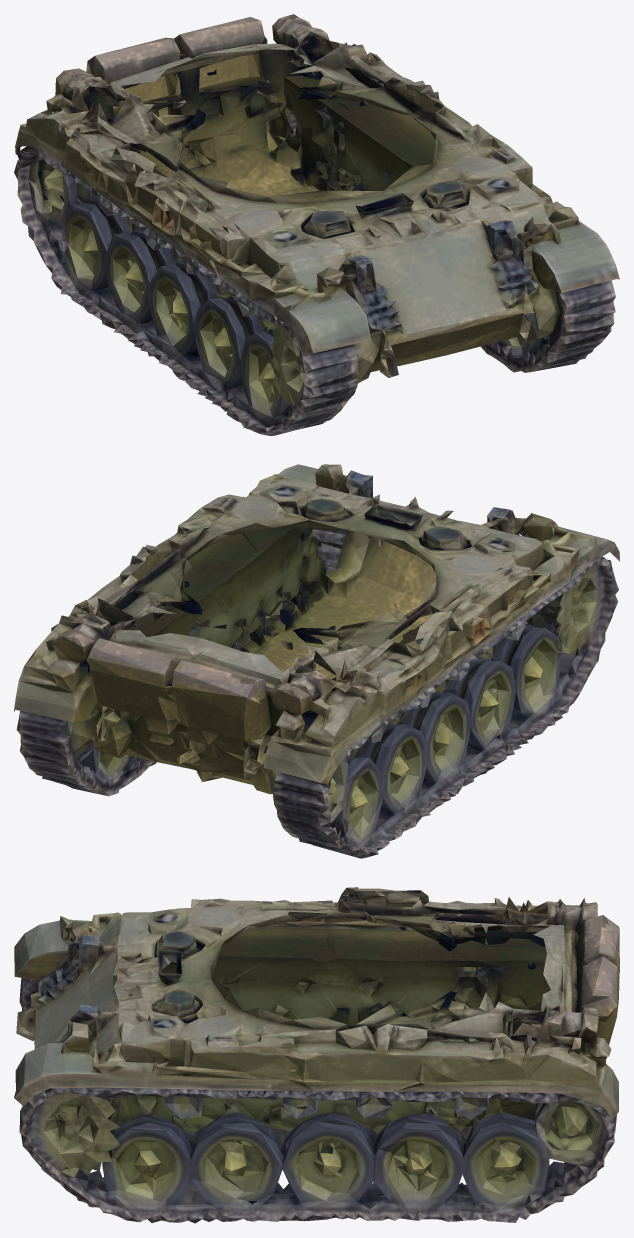
Rendered from pershing_hull.obj.
3 views of the same model, one above another, from view 1: azimuth 30°, elevation 25°; view 2: azimuth 150°, elevation 25°; view 3: azimuth 270°, elevation 25° (orthographic).
Parts seen in each view (by area): view 1: pershing_hull; view 2: pershing_hull; view 3: pershing_hull.
Part boxes in pixels (x1,y1,x2,y2): pershing_hull: (14, 14, 619, 435); pershing_hull: (14, 464, 619, 858); pershing_hull: (14, 887, 619, 1223).
Size of the model in its own units: 3.96 by 2.26 by 6.29.
Materials: 1 (1 with a texture image).
